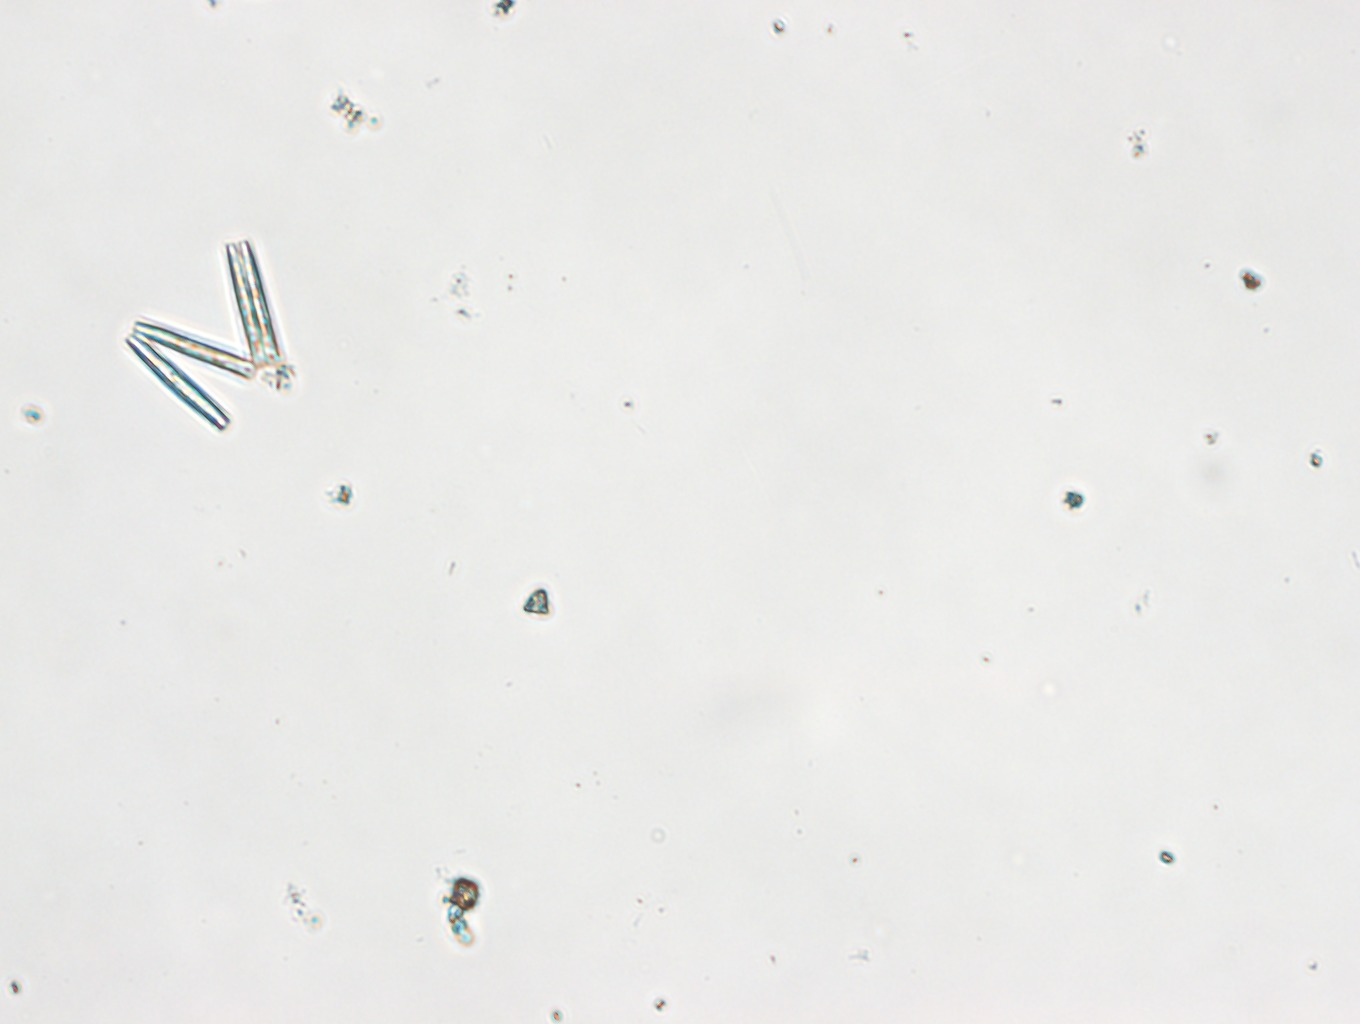thalassionema nitzschioides: (121, 238, 284, 433)
